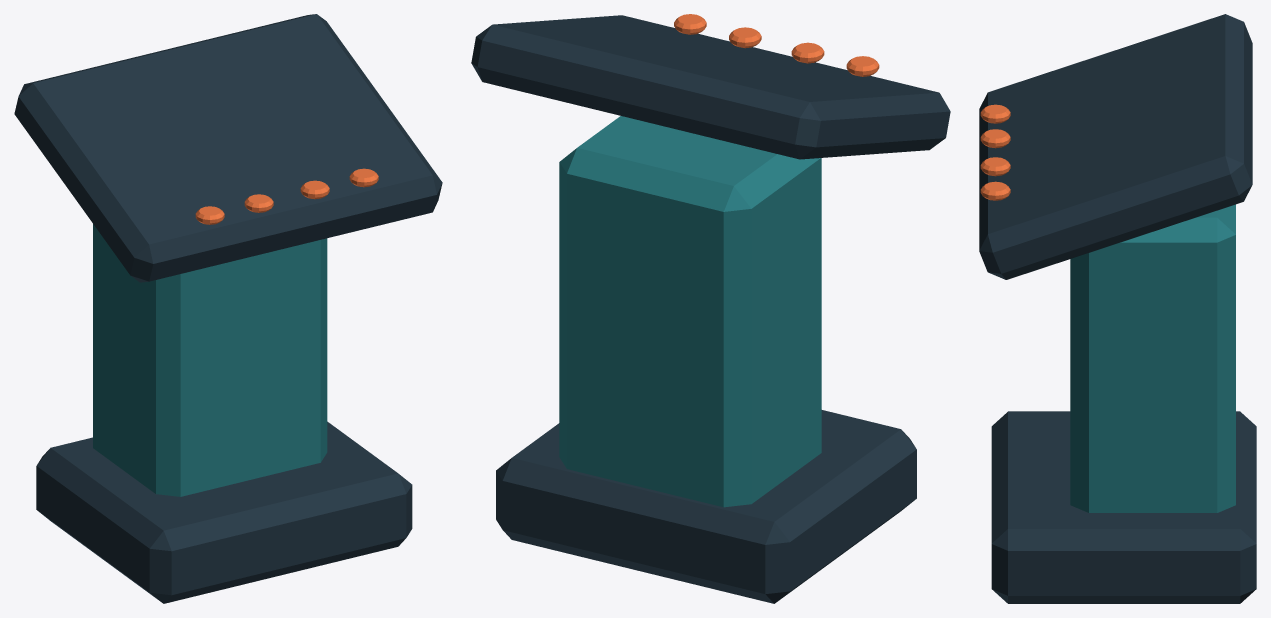
File: 09_Control_Terminal.glb
3 renders of one model, left to right at view 1: azimuth 30°, elevation 25°; view 2: azimuth 150°, elevation 25°; view 3: azimuth 270°, elevation 25°, orthographic. The views are drawn at different scales.
Visible parts, largest first — view 1: 09_Control_Terminal; view 2: 09_Control_Terminal; view 3: 09_Control_Terminal.
Part boxes in pixels (left/top/right/bottom): 09_Control_Terminal: left=14, top=14, right=442, bottom=603; 09_Control_Terminal: left=471, top=14, right=950, bottom=603; 09_Control_Terminal: left=979, top=14, right=1256, bottom=603.
Size of the model in its own units: 0.88 by 1.23 by 0.6698.
